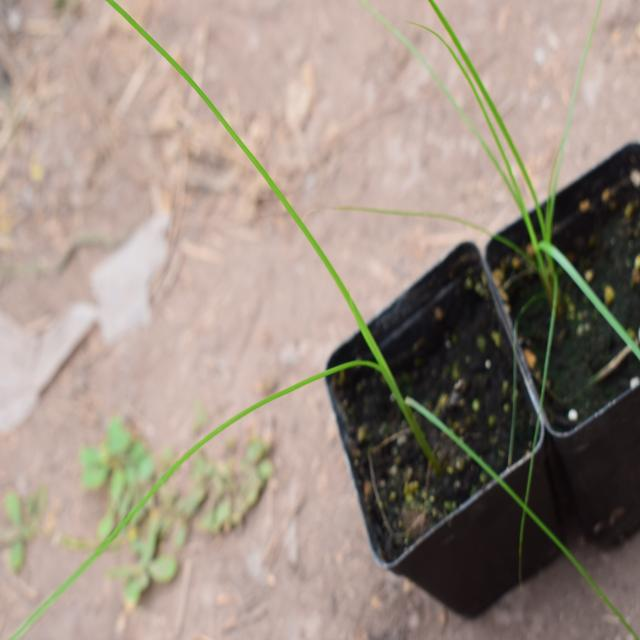sedge: (58, 25, 476, 514)
